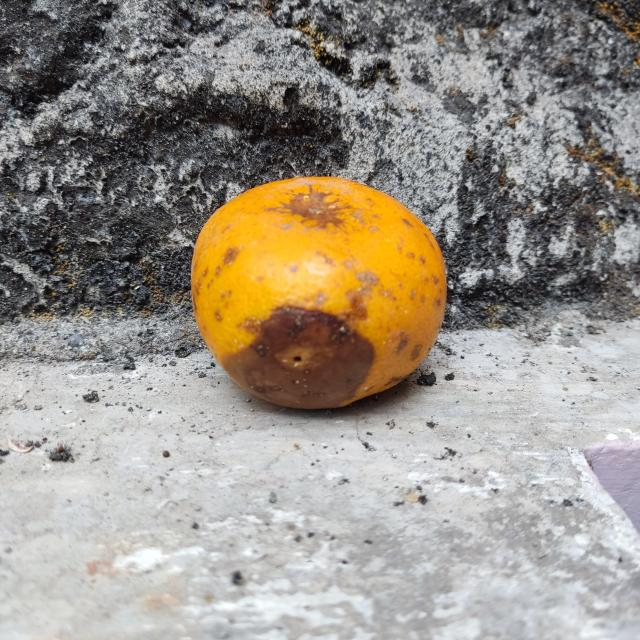orange: (190, 172, 448, 414)
